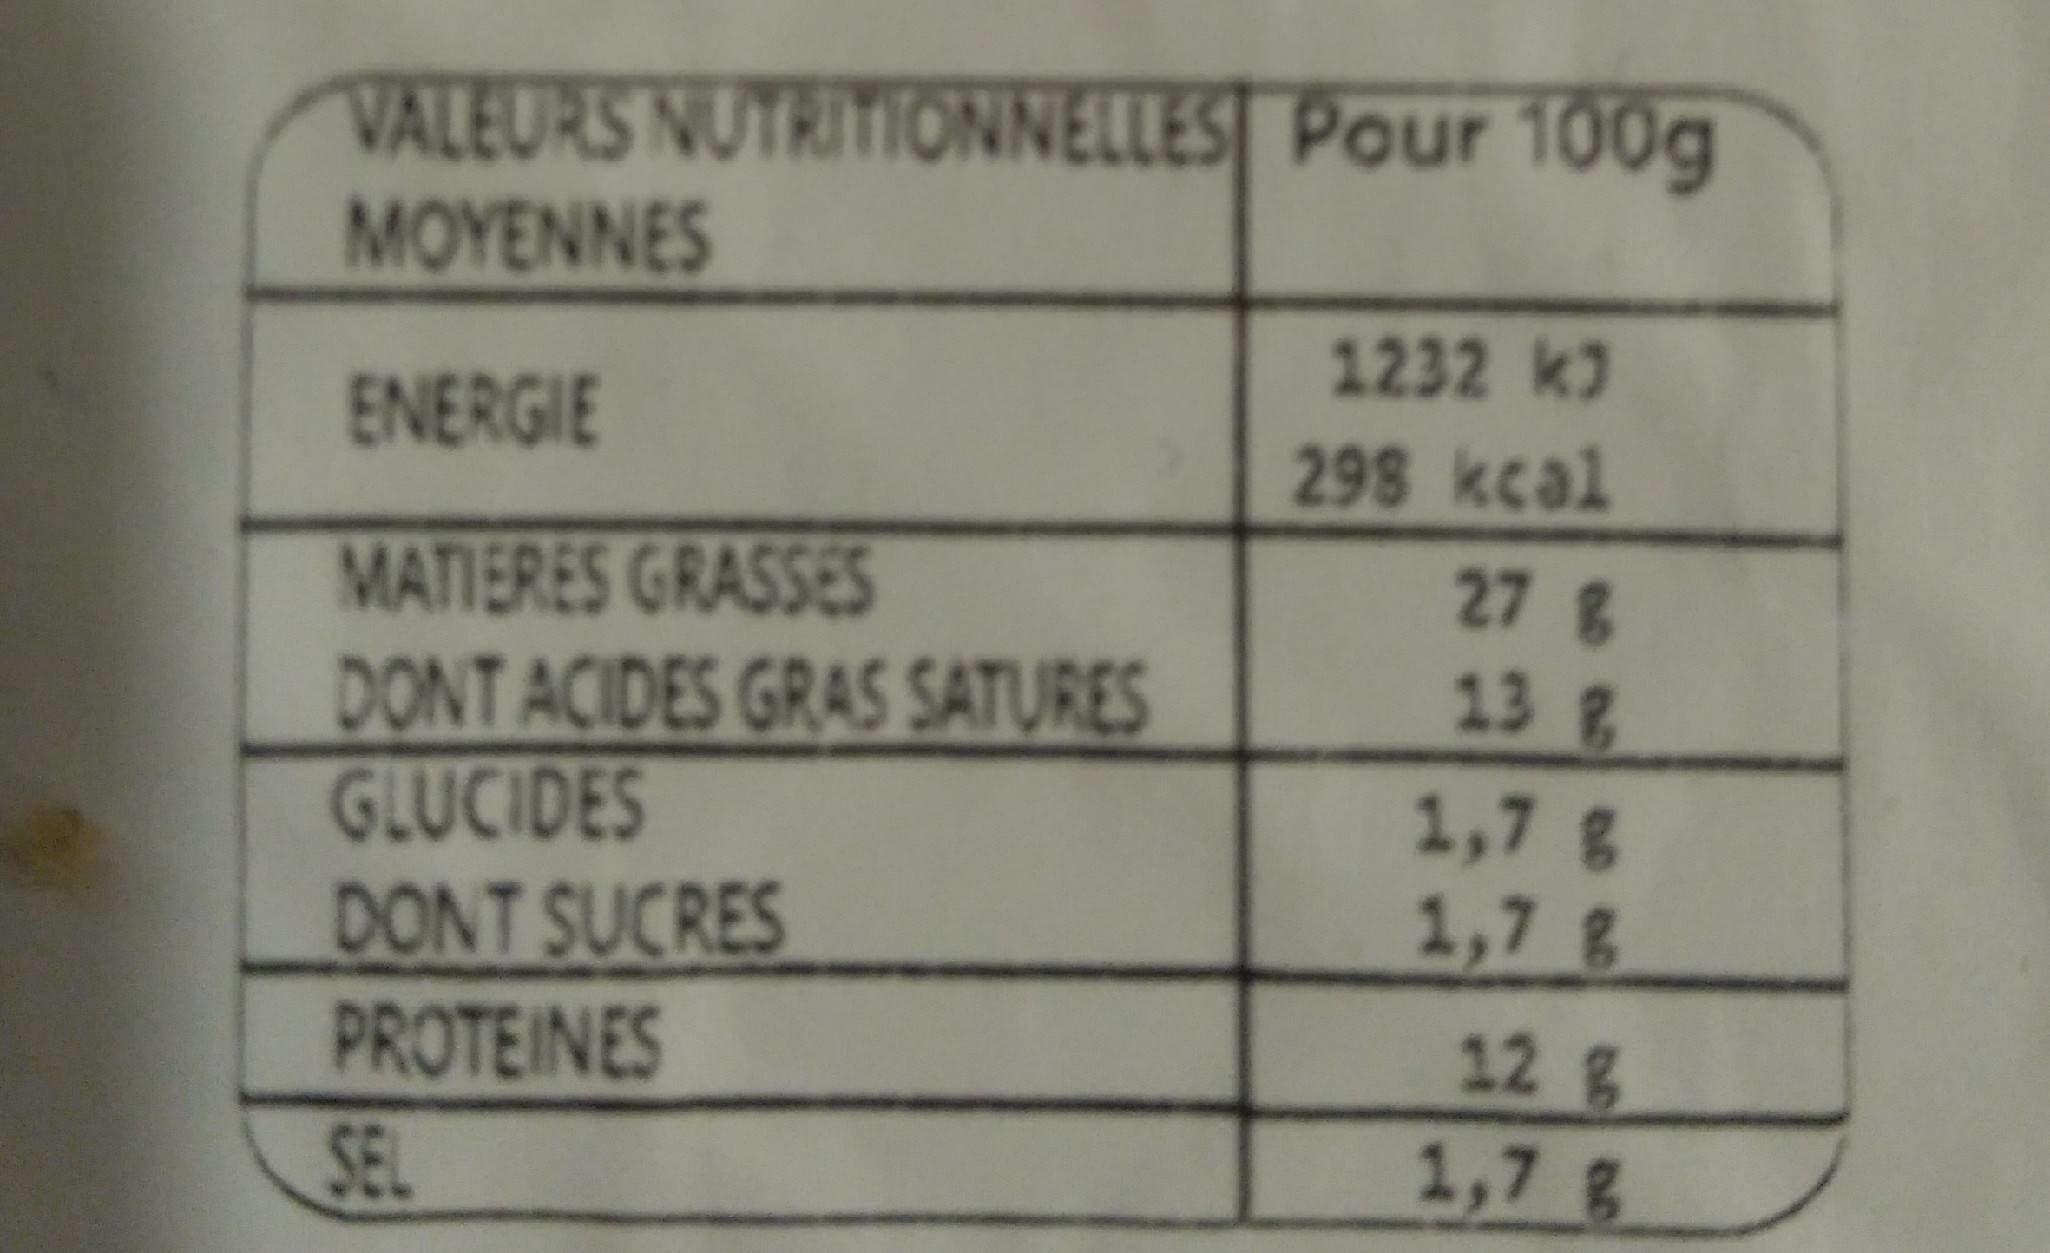column: (234, 57, 1246, 1234), (1264, 57, 1762, 1219)
table: (239, 59, 1863, 1227)
